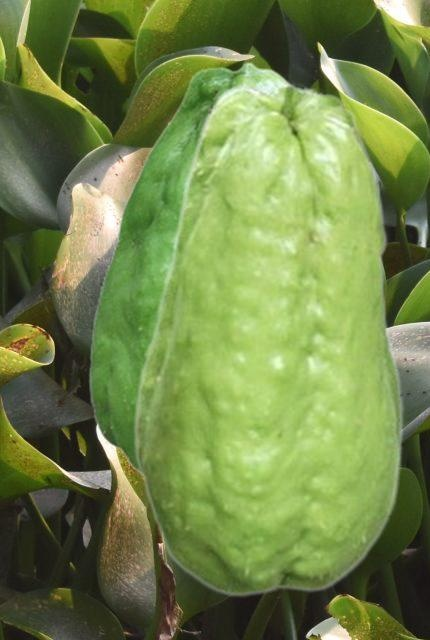sayote: (132, 82, 405, 598), (88, 61, 291, 476)
